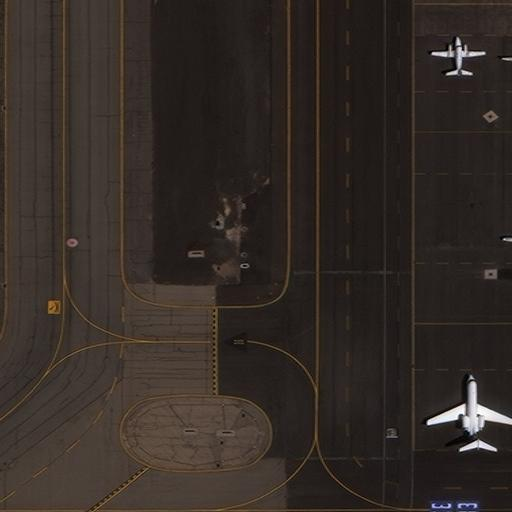Medium Civil Transport: (427, 374, 512, 452)
Small Civil Transport: (431, 36, 485, 77)
